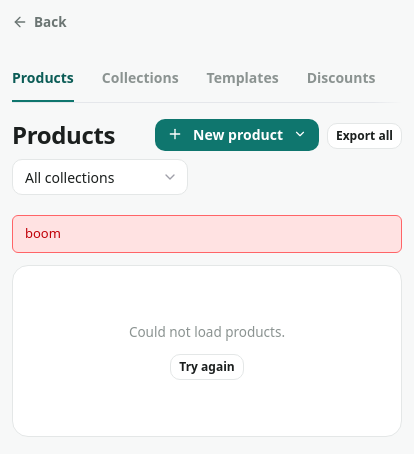
it: ProductsPage loading never sticks › a failed products request ends in an error with Try again, not a skeleton forever
Click the button "Try again".
click(207, 367)  # box [170,354,244,380]
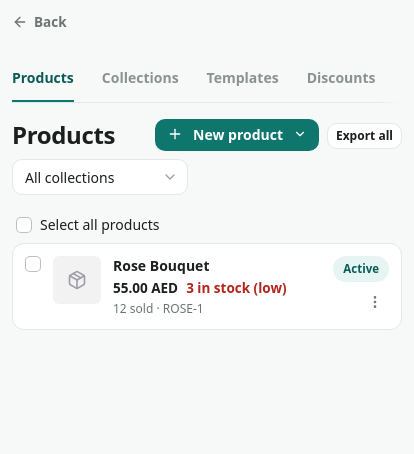
Check: the text "Rose Bouquet" is shown, box [113,256,210,276]
